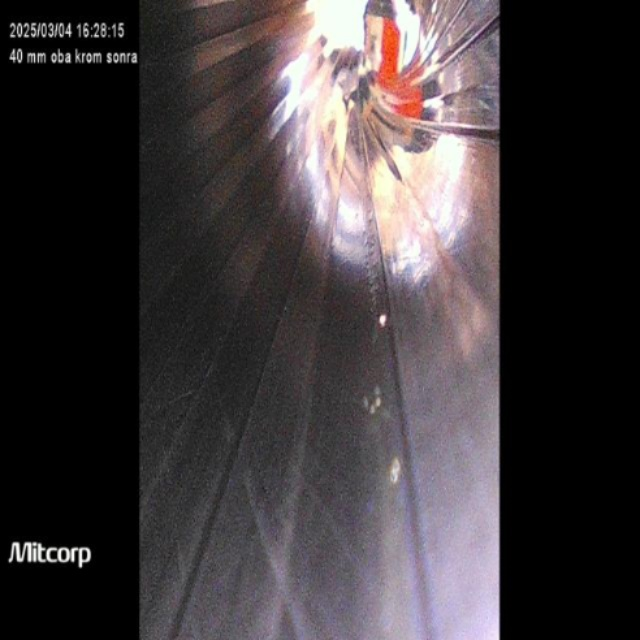hata_4.1: (359, 377, 385, 430), (386, 449, 411, 497), (373, 295, 396, 344)
